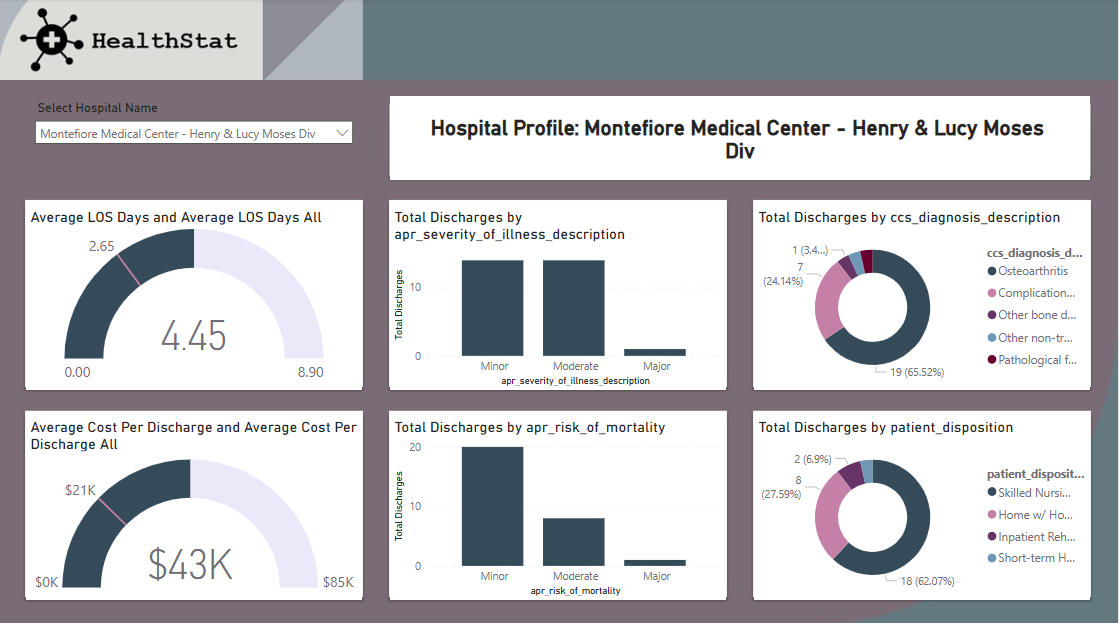

This screenshot's page, from the dashboard's own definition file:
{"tool":"powerbi","page":{"name":"Hospital Profile","canvas":[1280,720],"ordinal":3},"visuals":[{"type":"gauge","fields":{"Y":["__Measures.Average LOS Days"],"TargetValue":["__Measures.Average LOS Days All"]},"box":[32,240,384,208],"z":0},{"type":"gauge","fields":{"Y":["__Measures.Average Cost Per Discharge"],"TargetValue":["__Measures.Average Cost Per Discharge All"]},"box":[32,480,384,208],"z":1000},{"type":"clusteredColumnChart","fields":{"Y":["__Measures.Total Discharges"],"Category":["hospital_discharges.apr_severity_of_illness_description"]},"box":[448,240,384,208],"z":2000},{"type":"clusteredColumnChart","fields":{"Y":["__Measures.Total Discharges"],"Category":["hospital_discharges.apr_risk_of_mortality"]},"box":[448,480,384,208],"z":3000},{"type":"donutChart","fields":{"Y":["__Measures.Total Discharges"],"Category":["hospital_discharges.ccs_diagnosis_description"]},"box":[864,240,384,208],"z":4000},{"type":"donutChart","fields":{"Y":["__Measures.Total Discharges"],"Category":["hospital_discharges.patient_disposition"]},"box":[864,480,384,208],"z":5000},{"type":"slicer","fields":{"Values":["hospital_discharges.facility_name"]},"box":[32,112,384,96],"z":6000},{"type":"card","fields":{"Values":["__Measures.Title Selected Facility"]},"box":[448,112,800,96],"z":7000}]}

Visuals, with their boxes in screenshot pixels (x1, y1, x2, y2), scaled from the page's 1280x720 canvas onto the 1119x623 screenshot:
gauge - __Measures.Average LOS Days x __Measures.Average LOS Days All: x1=28 y1=208 x2=364 y2=388
gauge - __Measures.Average Cost Per Discharge x __Measures.Average Cost Per Discharge All: x1=28 y1=415 x2=364 y2=595
clusteredColumnChart - __Measures.Total Discharges x hospital_discharges.apr_severity_of_illness_description: x1=392 y1=208 x2=727 y2=388
clusteredColumnChart - __Measures.Total Discharges x hospital_discharges.apr_risk_of_mortality: x1=392 y1=415 x2=727 y2=595
donutChart - __Measures.Total Discharges x hospital_discharges.ccs_diagnosis_description: x1=755 y1=208 x2=1091 y2=388
donutChart - __Measures.Total Discharges x hospital_discharges.patient_disposition: x1=755 y1=415 x2=1091 y2=595
slicer - hospital_discharges.facility_name: x1=28 y1=97 x2=364 y2=180
card - __Measures.Title Selected Facility: x1=392 y1=97 x2=1091 y2=180
